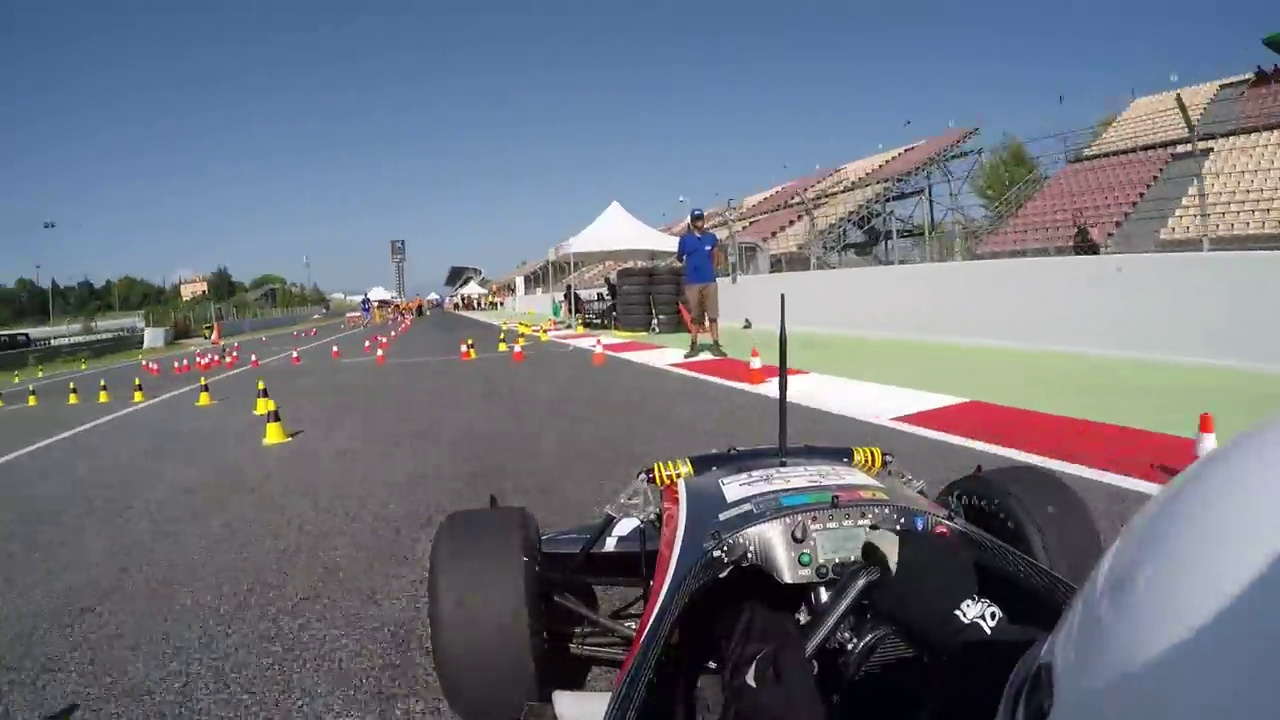Cone: (263, 397, 290, 445), (253, 379, 279, 414), (193, 373, 216, 406)
